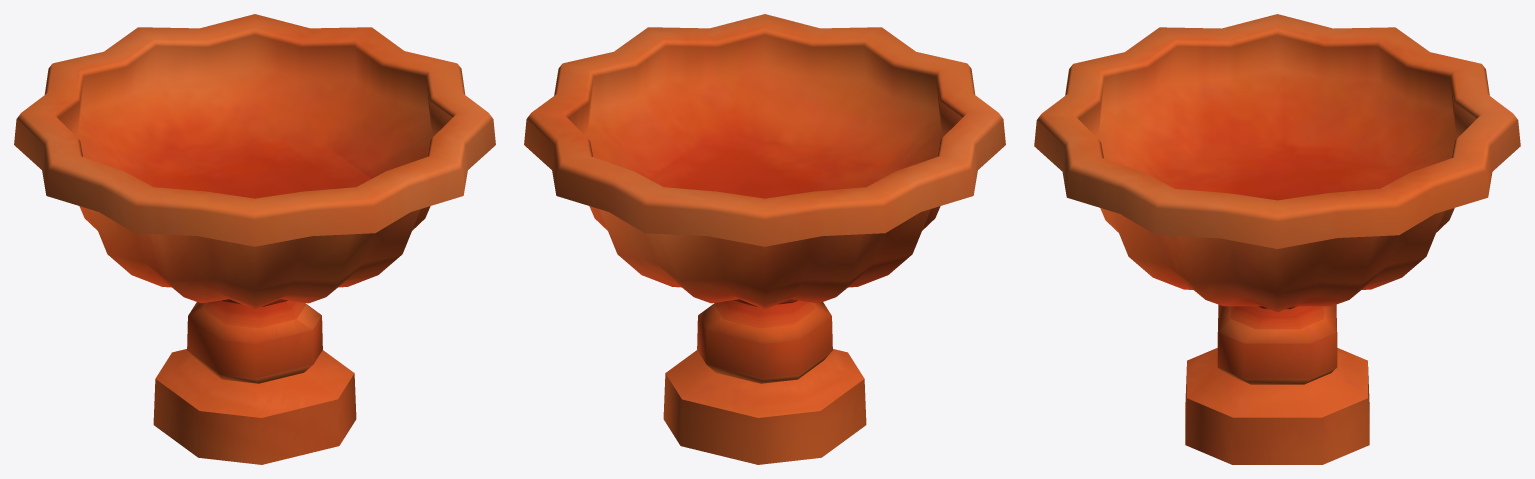
File: CopperFlowerPotHand.fbx
The picture shows the model from 3 angles, left to right: view 1: azimuth 30°, elevation 25°; view 2: azimuth 150°, elevation 25°; view 3: azimuth 270°, elevation 25°; orthographic projection.
Parts seen in each view (by area): view 1: FlowerPotHandHeld; view 2: FlowerPotHandHeld; view 3: FlowerPotHandHeld.
Boxes of the visible parts, x1,y1,x2,y2 form: FlowerPotHandHeld: [14, 14, 495, 464]; FlowerPotHandHeld: [524, 14, 1005, 464]; FlowerPotHandHeld: [1034, 14, 1520, 464].
Size of the model in its own units: 1.08 by 0.7653 by 1.08.
